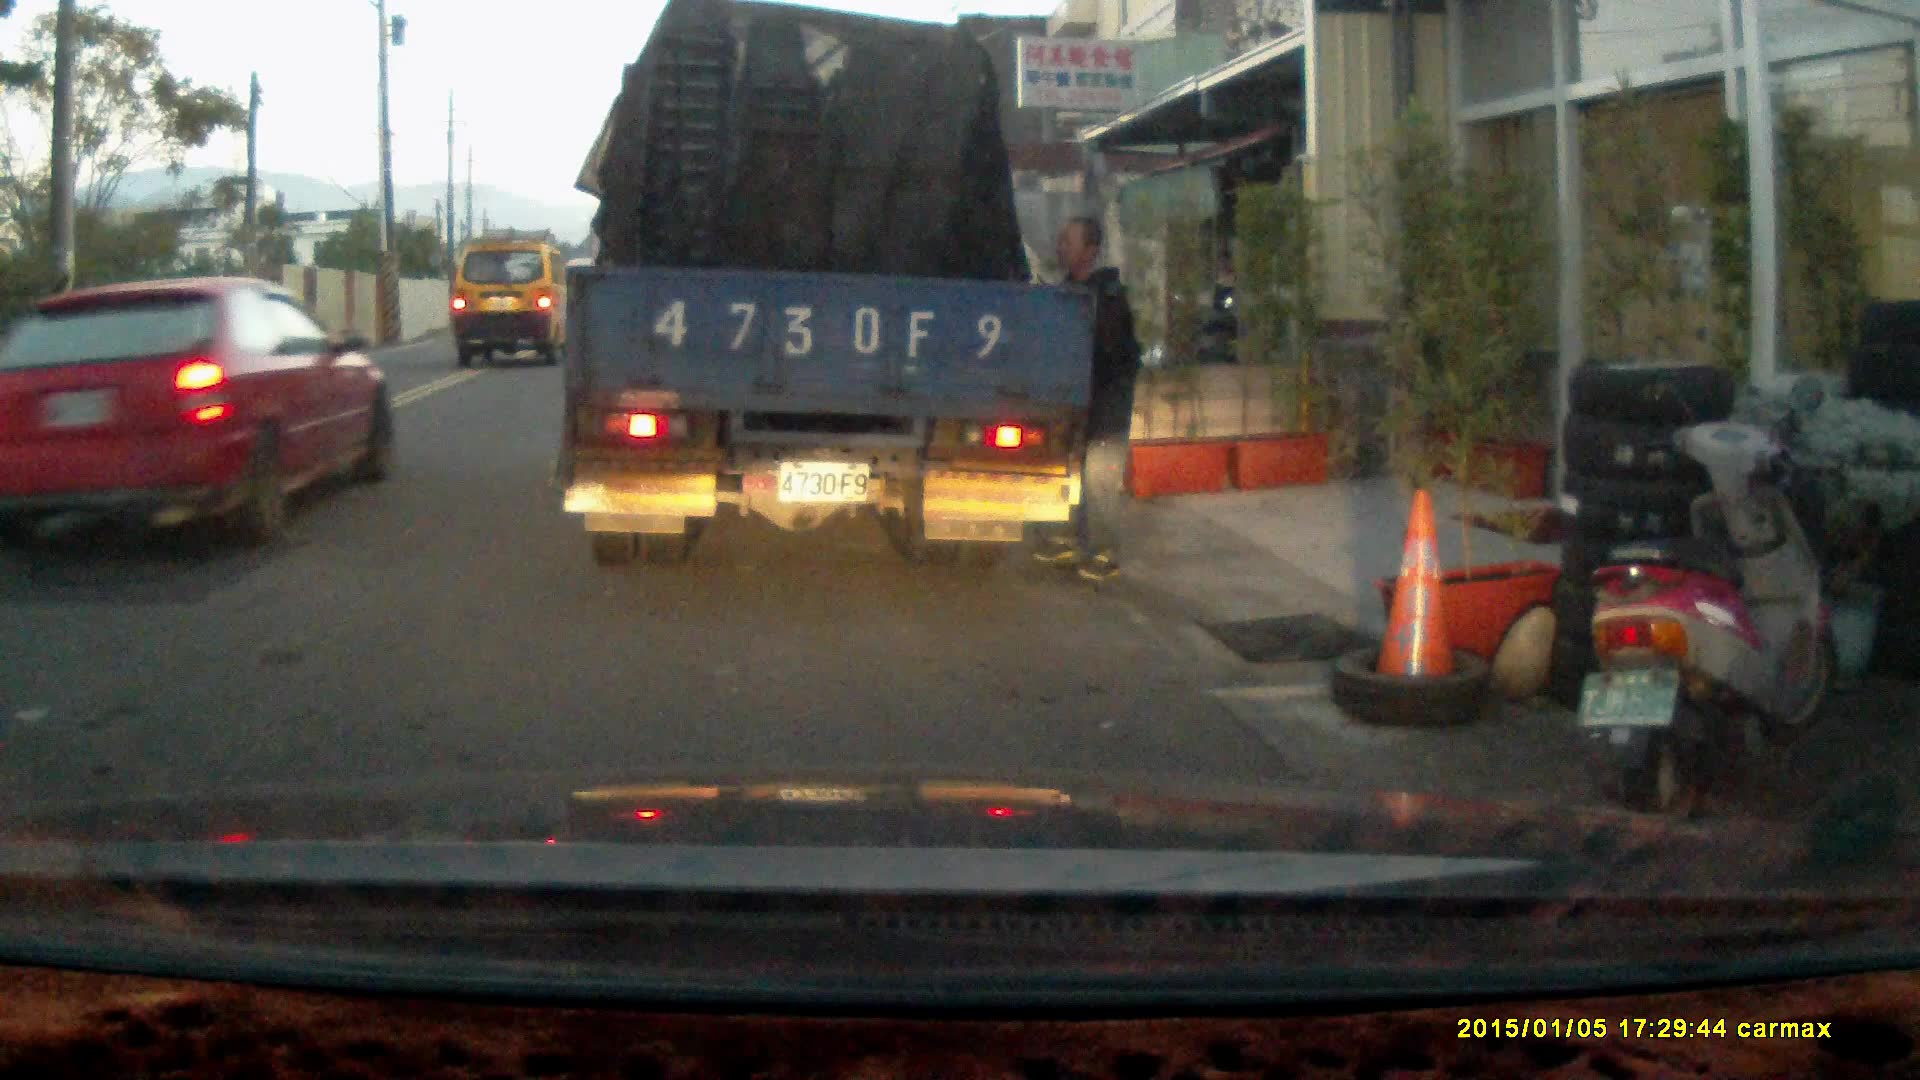pedestrian: (1030, 213, 1141, 581)
vehicle: (565, 23, 1097, 570), (1, 277, 398, 560), (450, 238, 575, 361)
